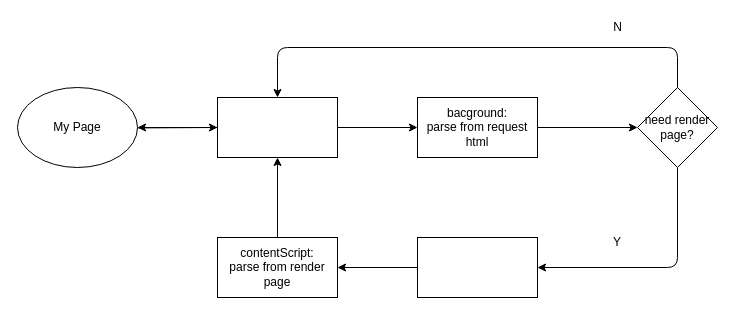
This 735x315 diagram has some shape labels left out. The box of each missing label's shape, as (x1, y1, x2, y2) in pixels:
contentScript: my page scope code: (216, 96, 338, 158)
create new tab and render page: (416, 236, 538, 298)
